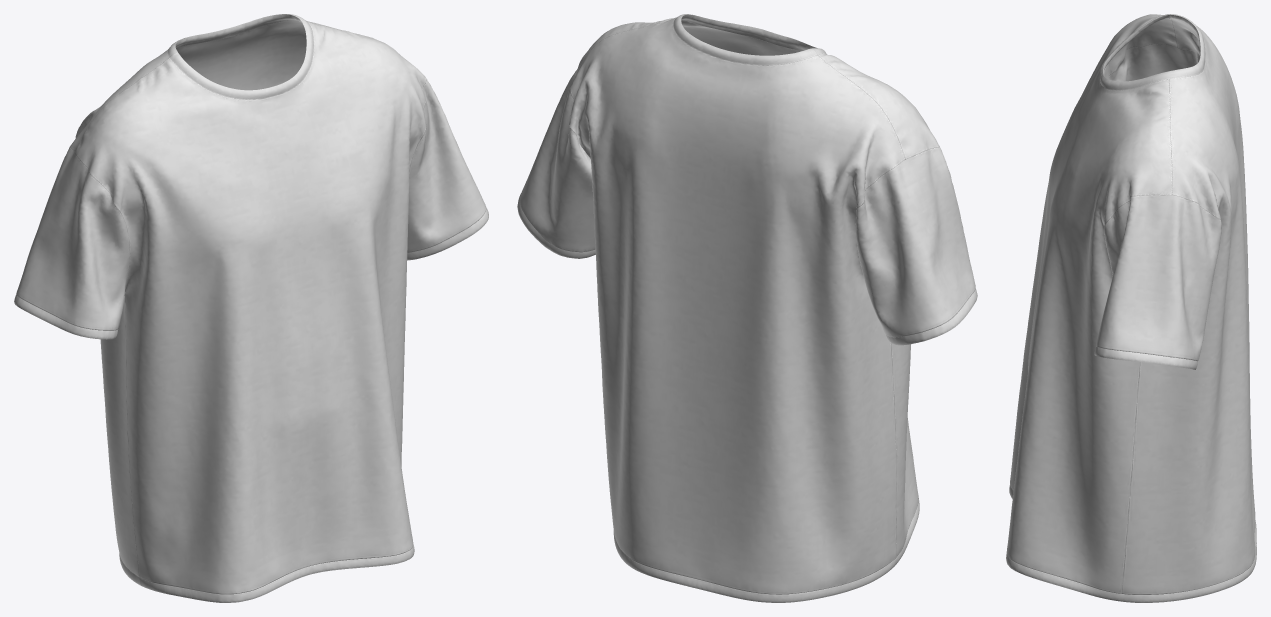
Rendered from tshirt2.glb.
The picture shows the model from 3 angles, left to right: view 1: azimuth 30°, elevation 25°; view 2: azimuth 150°, elevation 25°; view 3: azimuth 270°, elevation 25°; orthographic projection. The views are drawn at different scales.
Parts seen in each view (by area): view 1: Object_2; view 2: Object_2; view 3: Object_2.
Part boxes in pixels (bbox=[...]): Object_2: bbox=[14, 14, 488, 602]; Object_2: bbox=[517, 14, 977, 602]; Object_2: bbox=[1006, 14, 1256, 602].
Size of the model in its own units: 0.637 by 0.7108 by 0.3212.
Materials: 1 (1 with a texture image).
